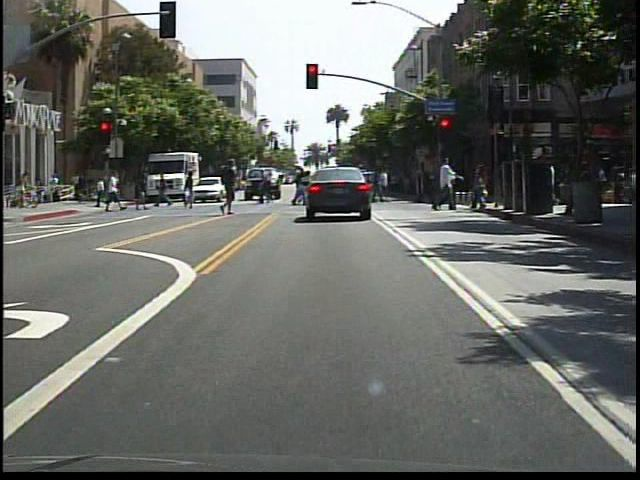person: (432, 155, 465, 214), (217, 158, 246, 223), (344, 166, 367, 217), (103, 170, 126, 220), (181, 169, 202, 213), (154, 170, 173, 211), (257, 169, 273, 207)
